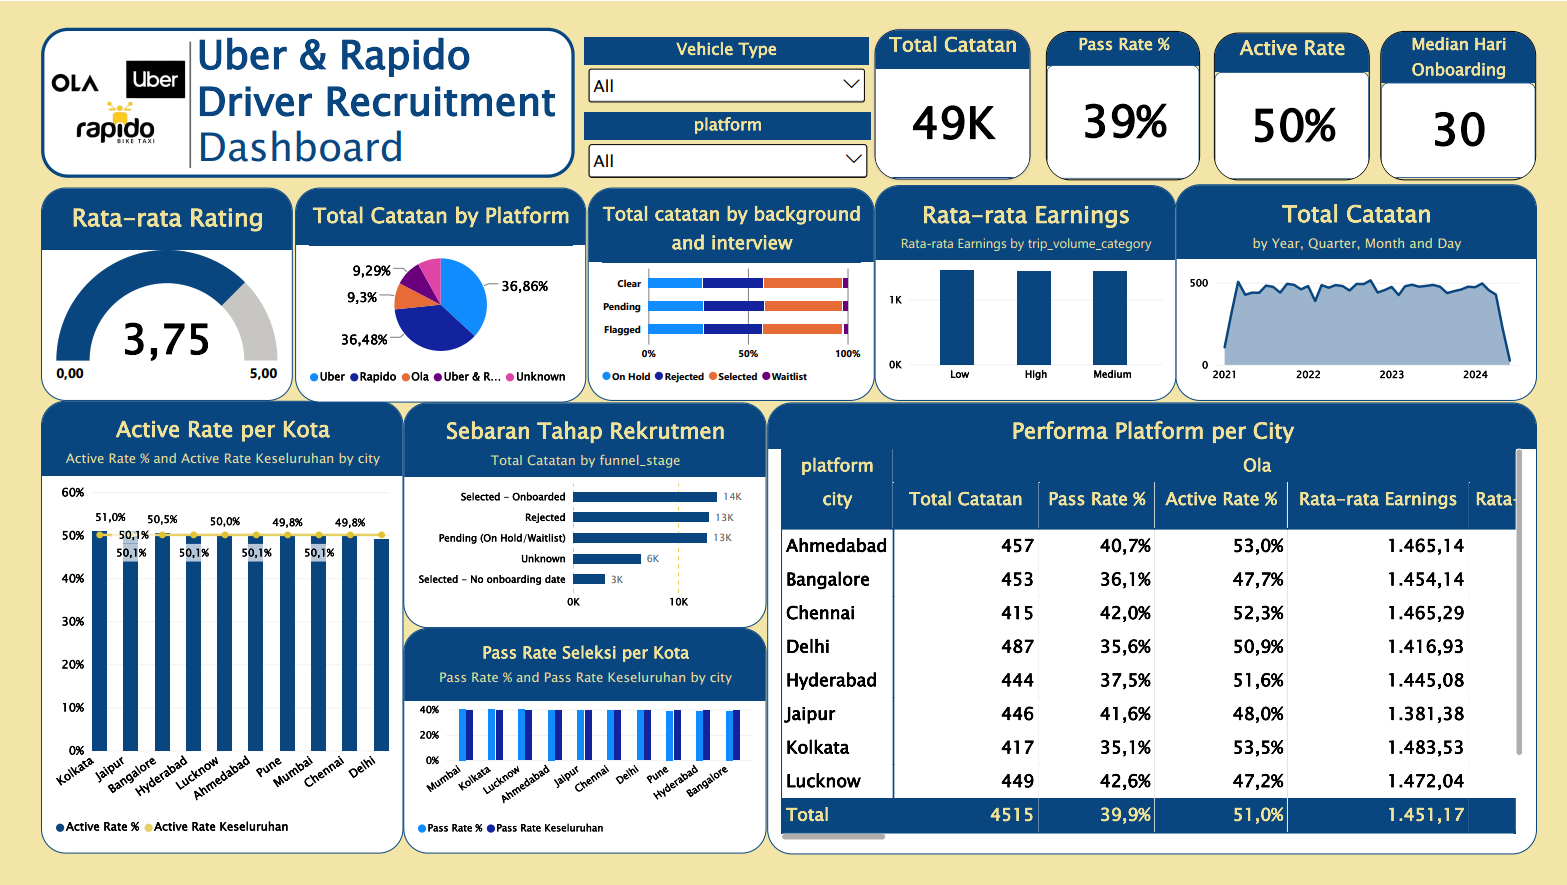

This screenshot's page, from the dashboard's own definition file:
{"tool":"powerbi","page":{"name":"Page 1","canvas":[1920,1080],"ordinal":0},"visuals":[{"type":"shape","box":[52.9,32.9,651.4,182.9],"z":0},{"type":"cardVisual","title":"Total Catatan","fields":{"Data":["drivers.Total Catatan"]},"box":[1070,35,190,182.5],"z":1000},{"type":"cardVisual","title":"Active Rate","fields":{"Data":["drivers.Active Rate %"]},"box":[1484.3,38.6,190,180],"z":2000},{"type":"cardVisual","title":"Pass Rate %","fields":{"Data":["drivers.Pass Rate %"]},"box":[1278.6,37.1,188.6,181.4],"z":3000},{"type":"cardVisual","title":"Median Hari Onboarding","fields":{"Data":["drivers.Median Hari Onboarding"]},"box":[1687.1,37.1,190,181.4],"z":4000},{"type":"clusteredBarChart","title":"Sebaran Tahap Rekrutmen","fields":{"Category":["drivers.funnel_stage"],"Y":["drivers.Total Catatan"]},"box":[495,490,442.5,275],"z":5000},{"type":"lineClusteredColumnComboChart","title":"Pass Rate Seleksi per Kota","fields":{"Category":["drivers.city"],"Y":["drivers.Pass Rate %","drivers.Pass Rate Keseluruhan"]},"box":[495,765,442.5,275],"z":6000},{"type":"lineClusteredColumnComboChart","title":"Active Rate per Kota","fields":{"Category":["drivers.city"],"Y":["drivers.Active Rate %"],"Y2":["drivers.Active Rate Keseluruhan"]},"box":[52.5,487.5,442.5,552.5],"z":7000},{"type":"textbox","box":[243,30,505,75],"z":8000},{"type":"pieChart","title":"Total Catatan by Platform","fields":{"Category":["drivers.platform"],"Y":["drivers.Total Catatan"]},"box":[362.5,227.5,355,262.5],"z":9000},{"type":"lineChart","fields":{"Category":["drivers.Bulan Onboarding.Variation.Date Hierarchy.Year","drivers.Bulan Onboarding.Variation.Date Hierarchy.Quarter","drivers.Bulan Onboarding.Variation.Date Hierarchy.Month","drivers.Bulan Onboarding.Variation.Date Hierarchy.Day"],"Y":["drivers.Total Catatan"]},"box":[1436.7,224.5,440.8,263.3],"z":10000},{"type":"clusteredColumnChart","title":"Rata-rata Earnings","fields":{"Category":["drivers.trip_volume_category"],"Y":["drivers.Rata-rata Earnings"]},"box":[1070,225,367.5,262.5],"z":11000},{"type":"hundredPercentStackedBarChart","title":"Total catatan by background and interview","fields":{"Category":["drivers.background_check_status"],"Series":["drivers.interview_result"],"Y":["drivers.Total Catatan"]},"box":[720,227.5,350,260],"z":12000},{"type":"gauge","fields":{"Y":["drivers.Rata-rata Rating"]},"box":[52.5,227.5,307.5,260],"z":13000},{"type":"pivotTable","title":"Performa Platform per City","fields":{"Columns":["drivers.platform"],"Rows":["drivers.city"],"Values":["drivers.Total Catatan","drivers.Pass Rate %","drivers.Active Rate %","drivers.Rata-rata Earnings","drivers.Rata-rata Rating"]},"box":[938.8,489.8,938.8,551],"z":14000},{"type":"slicer","title":"Vehicle Type","fields":{"Values":["drivers.vehicle_type"]},"box":[715.7,44.3,347.8,100],"z":15000},{"type":"slicer","title":"platform","fields":{"Values":["drivers.platform"]},"box":[715.7,135.7,350,115],"z":16000},{"type":"shape","box":[215.7,50,38.6,154.3],"z":17000},{"type":"image","box":[57.2,60,177.8,119.1],"z":18000},{"type":"textbox","box":[243,87,505,75],"z":19000},{"type":"textbox","box":[244,143,505,75],"z":20000}]}

Visuals, with their boxes in screenshot pixels (x1, y1, x2, y2), scaled from the page's 1920x1080 canvas onto the 1567x885 screenshot:
shape: (left=43, top=27, right=575, bottom=177)
"Total Catatan" cardVisual: (left=873, top=29, right=1028, bottom=178)
"Active Rate" cardVisual: (left=1211, top=32, right=1366, bottom=179)
"Pass Rate %" cardVisual: (left=1044, top=30, right=1197, bottom=179)
"Median Hari Onboarding" cardVisual: (left=1377, top=30, right=1532, bottom=179)
"Sebaran Tahap Rekrutmen" clusteredBarChart: (left=404, top=402, right=765, bottom=627)
"Pass Rate Seleksi per Kota" lineClusteredColumnComboChart: (left=404, top=627, right=765, bottom=852)
"Active Rate per Kota" lineClusteredColumnComboChart: (left=43, top=399, right=404, bottom=852)
textbox: (left=198, top=25, right=610, bottom=86)
"Total Catatan by Platform" pieChart: (left=296, top=186, right=586, bottom=402)
lineChart - drivers.Bulan Onboarding.Variation.Date Hierarchy.Year x drivers.Bulan Onboarding.Variation.Date Hierarchy.Quarter: (left=1173, top=184, right=1532, bottom=400)
"Rata-rata Earnings" clusteredColumnChart: (left=873, top=184, right=1173, bottom=399)
"Total catatan by background and interview" hundredPercentStackedBarChart: (left=588, top=186, right=873, bottom=399)
gauge - drivers.Rata-rata Rating: (left=43, top=186, right=294, bottom=399)
"Performa Platform per City" pivotTable: (left=766, top=401, right=1532, bottom=853)
"Vehicle Type" slicer: (left=584, top=36, right=868, bottom=118)
"platform" slicer: (left=584, top=111, right=870, bottom=205)
shape: (left=176, top=41, right=208, bottom=167)
image: (left=47, top=49, right=192, bottom=147)
textbox: (left=198, top=71, right=610, bottom=133)
textbox: (left=199, top=117, right=611, bottom=179)
